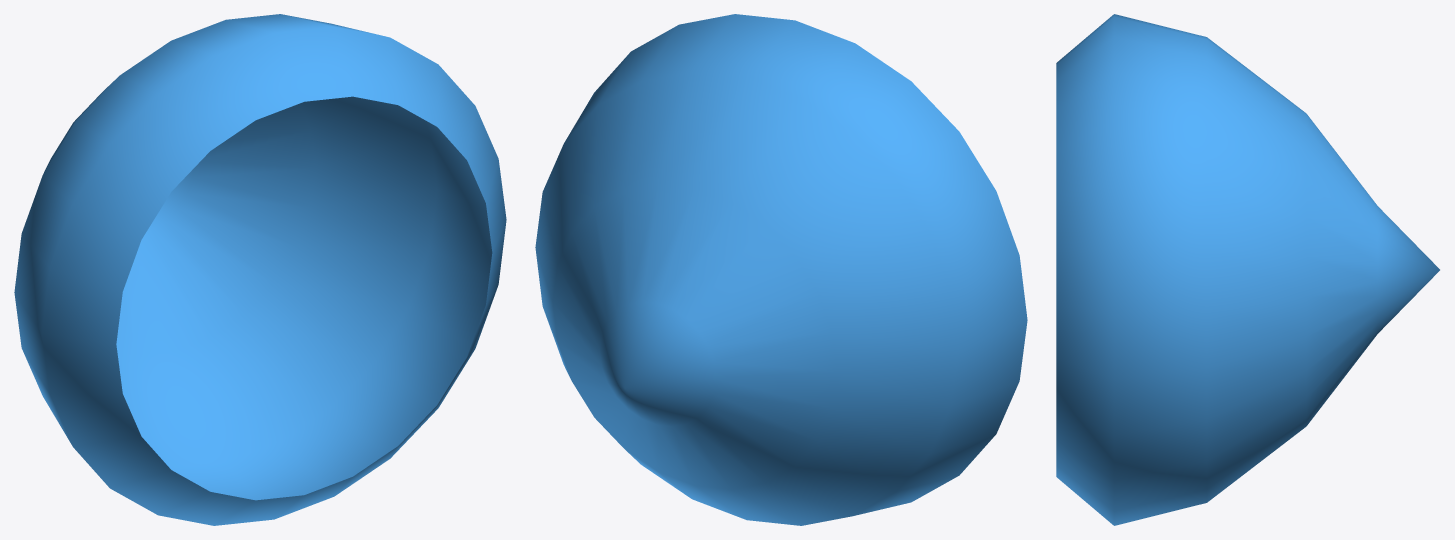
Rendered from SkyBlocker.fbx.
3 renders of one model, left to right at view 1: azimuth 30°, elevation 25°; view 2: azimuth 150°, elevation 25°; view 3: azimuth 270°, elevation 25°, orthographic. The views are drawn at different scales.
Visible parts, largest first — view 1: SkyBlocker; view 2: SkyBlocker; view 3: SkyBlocker.
Boxes of the visible parts, left/top/right/bottom form: SkyBlocker: left=14, top=14, right=506, bottom=525; SkyBlocker: left=535, top=14, right=1027, bottom=525; SkyBlocker: left=1056, top=14, right=1439, bottom=525.
Size of the model in its own units: 165 by 165 by 123.
